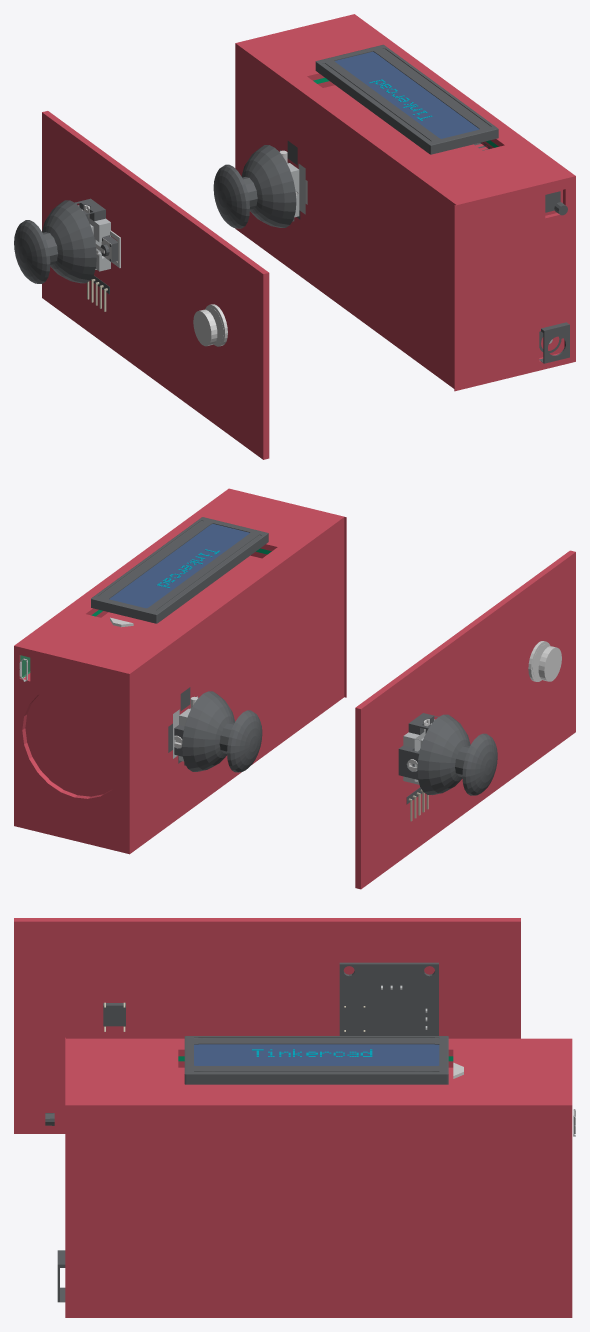
File: Tabela Periódica Acessível com Arduino.glb
3 views of the same model, one above another, from view 1: azimuth 30°, elevation 25°; view 2: azimuth 150°, elevation 25°; view 3: azimuth 270°, elevation 25° (orthographic). The views are drawn at different scales.
Parts seen in each view (by area): view 1: Mesh_Mesh_head_geo.001_lambert2SG.001; view 2: Mesh_Mesh_head_geo.001_lambert2SG.001; view 3: Mesh_Mesh_head_geo.001_lambert2SG.001.
Boxes of the visible parts, x1,y1,x2,y2 form: Mesh_Mesh_head_geo.001_lambert2SG.001: [14, 14, 575, 459]; Mesh_Mesh_head_geo.001_lambert2SG.001: [14, 488, 575, 889]; Mesh_Mesh_head_geo.001_lambert2SG.001: [14, 918, 575, 1317].
Bounding box in the file's own units: 144 × 67.2 × 149.
